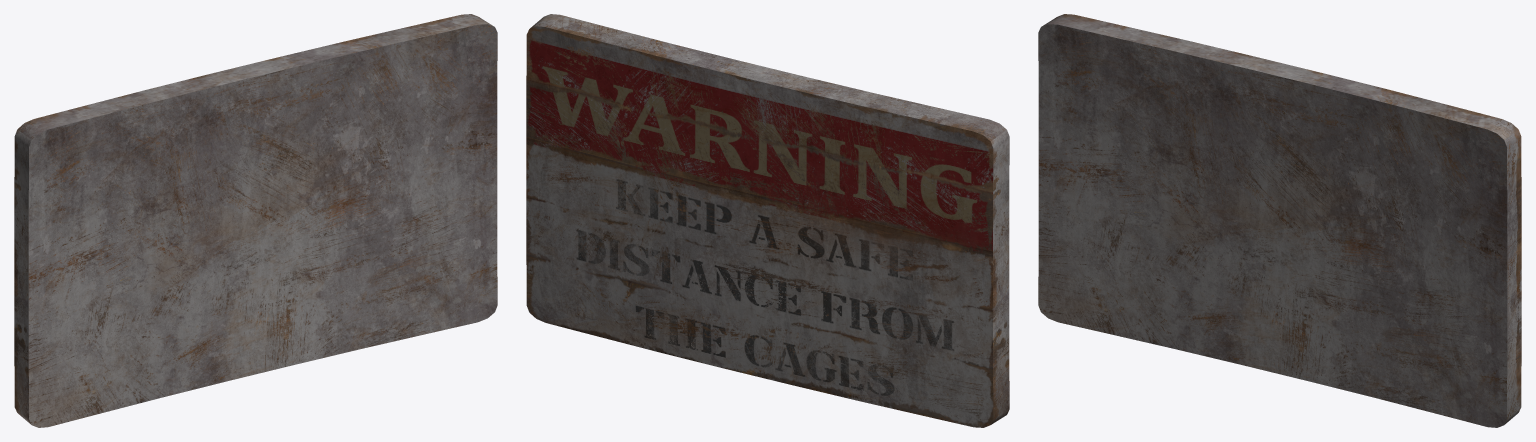
File: SM_StandingSign_B.fbx
The picture shows the model from 3 angles, left to right: view 1: azimuth 30°, elevation 25°; view 2: azimuth 150°, elevation 25°; view 3: azimuth 330°, elevation 25°; orthographic projection.
Visible parts, largest first — view 1: SM_StandingSign_B_LOD0; view 2: SM_StandingSign_B_LOD0; view 3: SM_StandingSign_B_LOD0.
Boxes of the visible parts, bbox=[...] form: SM_StandingSign_B_LOD0: bbox=[14, 14, 497, 427]; SM_StandingSign_B_LOD0: bbox=[526, 14, 1009, 427]; SM_StandingSign_B_LOD0: bbox=[1038, 14, 1521, 427].
Bounding box in the file's own units: 93.61 × 6.61 × 56.82.
Materials: 1 (1 with a texture image).
